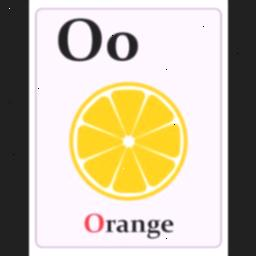o: (52, 14, 102, 68), (102, 28, 142, 64), (80, 209, 104, 235)
